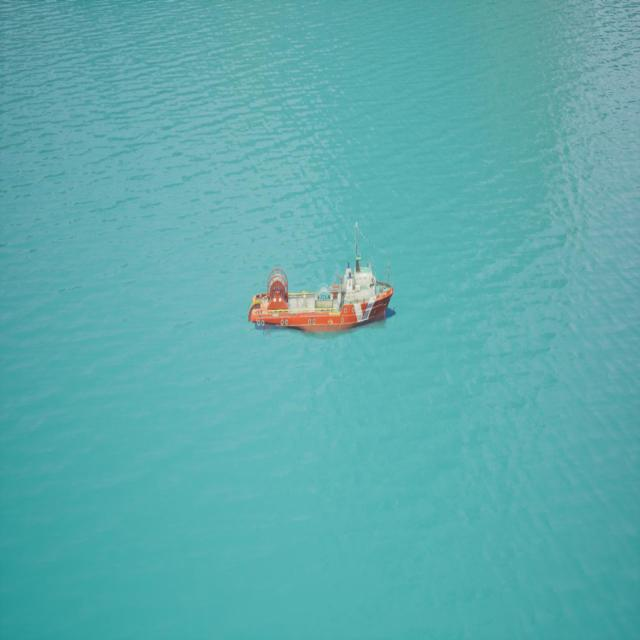tug boat: (248, 226, 397, 340)
